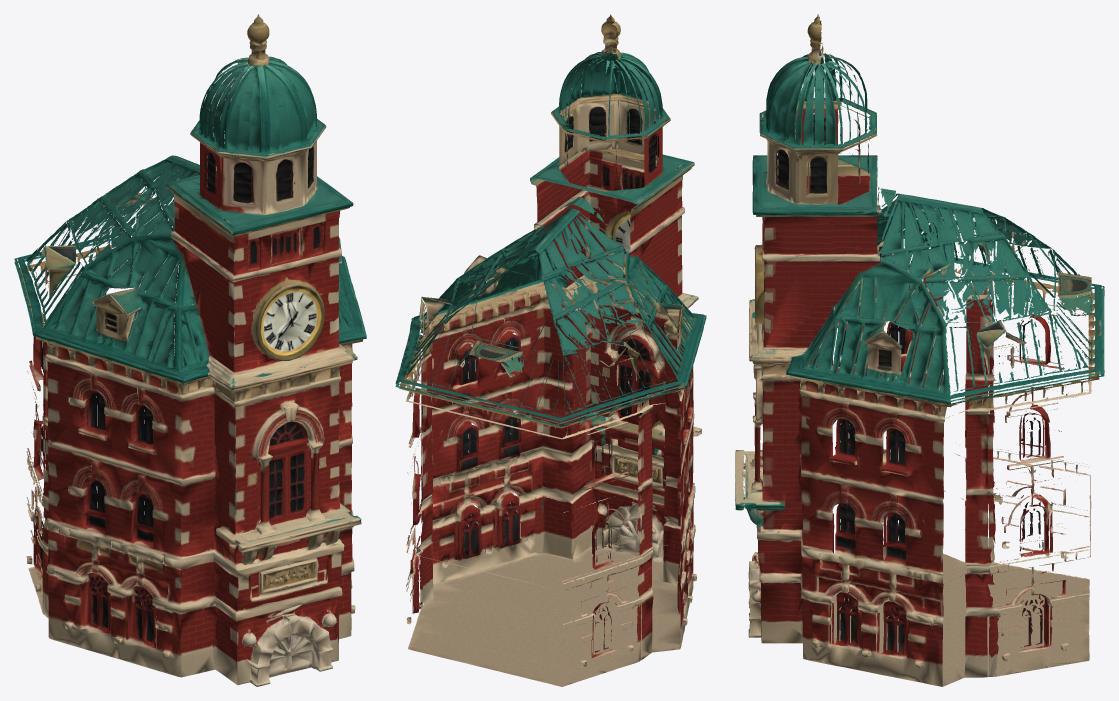
Rendered from bank_tower.glb.
3 renders of one model, left to right at view 1: azimuth 30°, elevation 25°; view 2: azimuth 150°, elevation 25°; view 3: azimuth 270°, elevation 25°, orthographic. The views are drawn at different scales.
Size of the model in its own units: 0.9744 by 1.9 by 1.05.
1 material, 1 textured.
